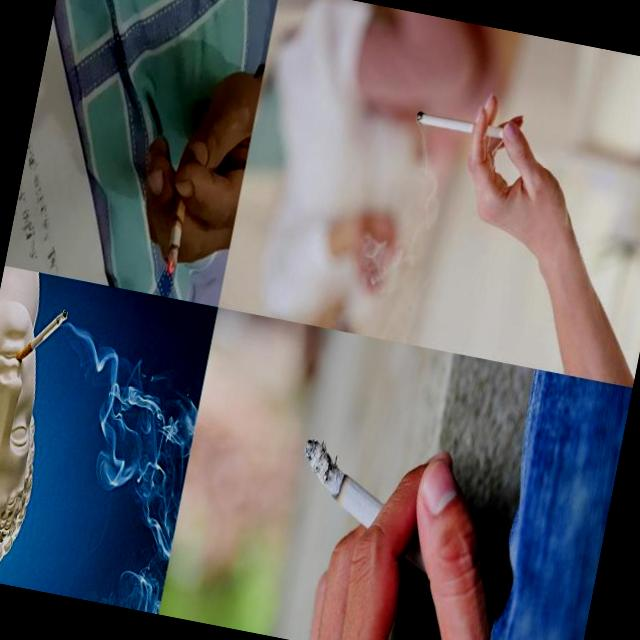smoke: (286, 438, 454, 578), (14, 300, 70, 369), (162, 166, 196, 276), (416, 110, 512, 140)
